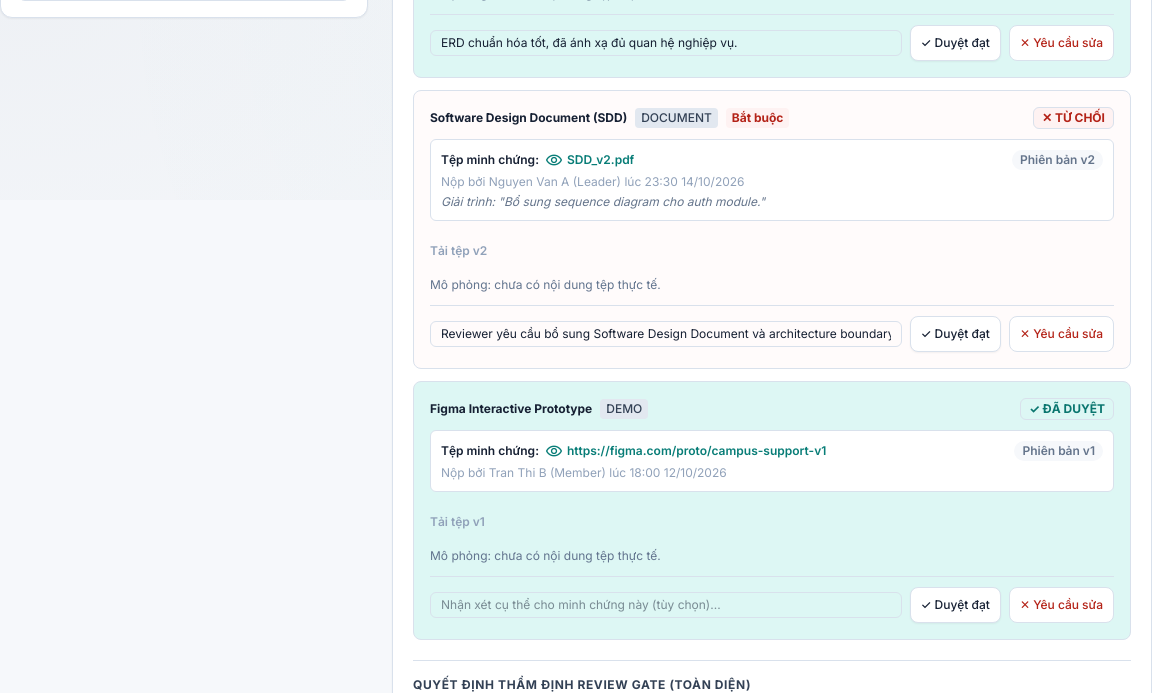
it: AssignedGateReviewPage (Cross-Role RV-01) › allows reviewer to verify an evidence item and update status
(page scrolled)
// Find "✓ Duyệt đạt" buttons
Click the button "✓ Duyệt đạt" below "23:30 14/10/2026".
click(955, 334)  # box [910, 316, 1001, 352]
(page scrolled)
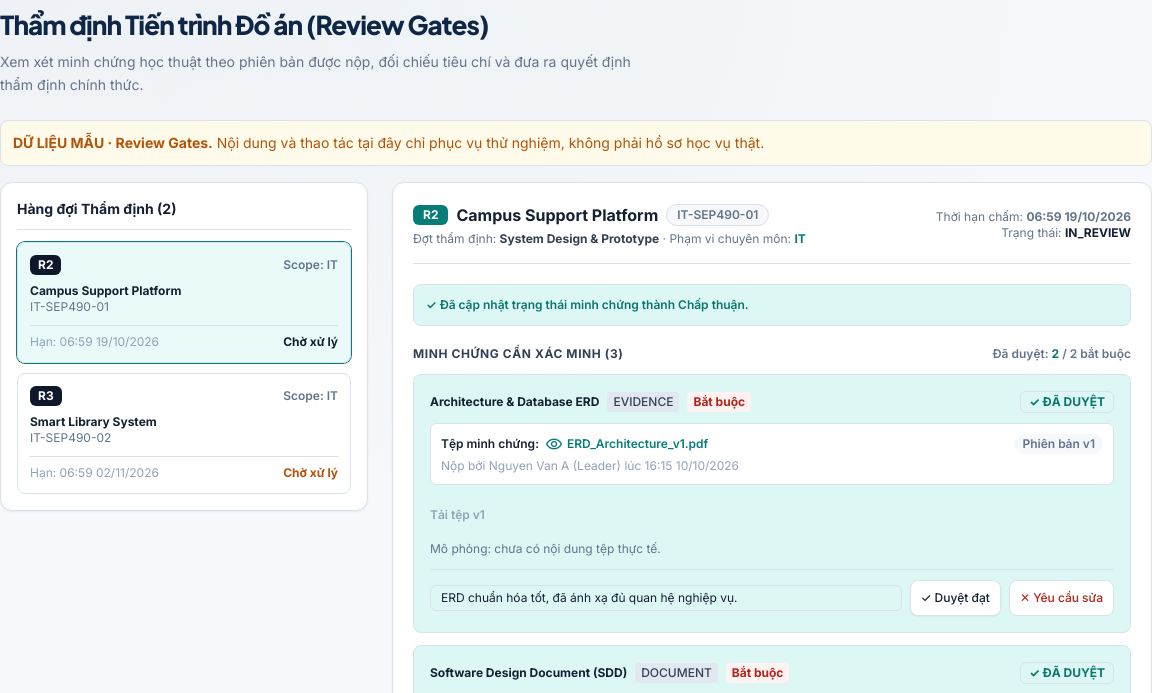
Check: the text "✓ Đã cập nhật trạng thái minh chứng thành Chấp thuận." is shown, box [413, 284, 1131, 326]
